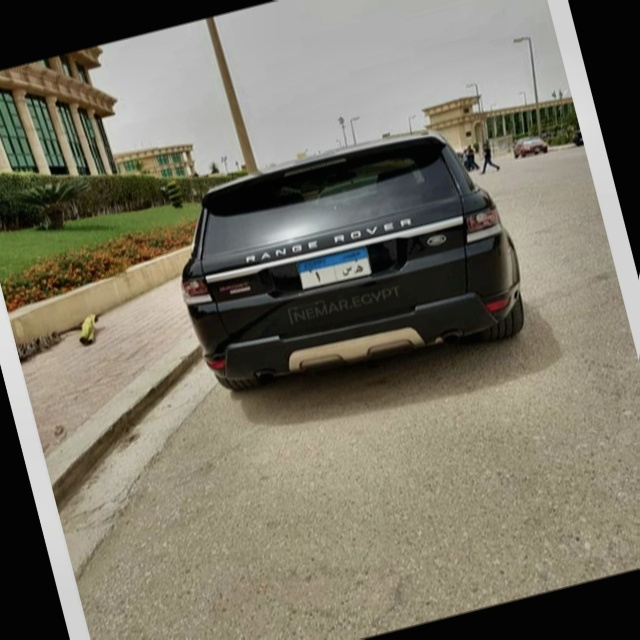License Plate: (294, 242, 377, 294)
